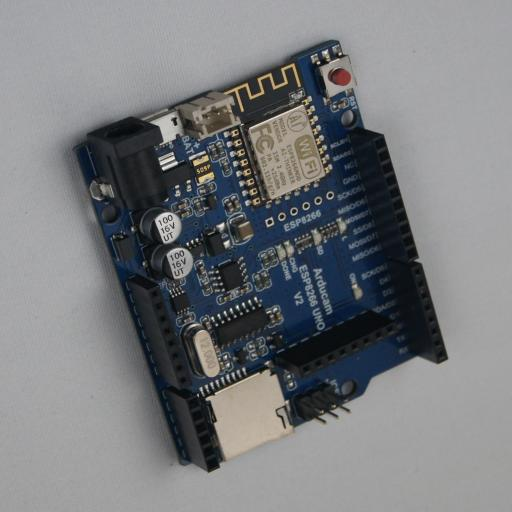Arduino Uno Camera Shield: (66, 40, 448, 472)
